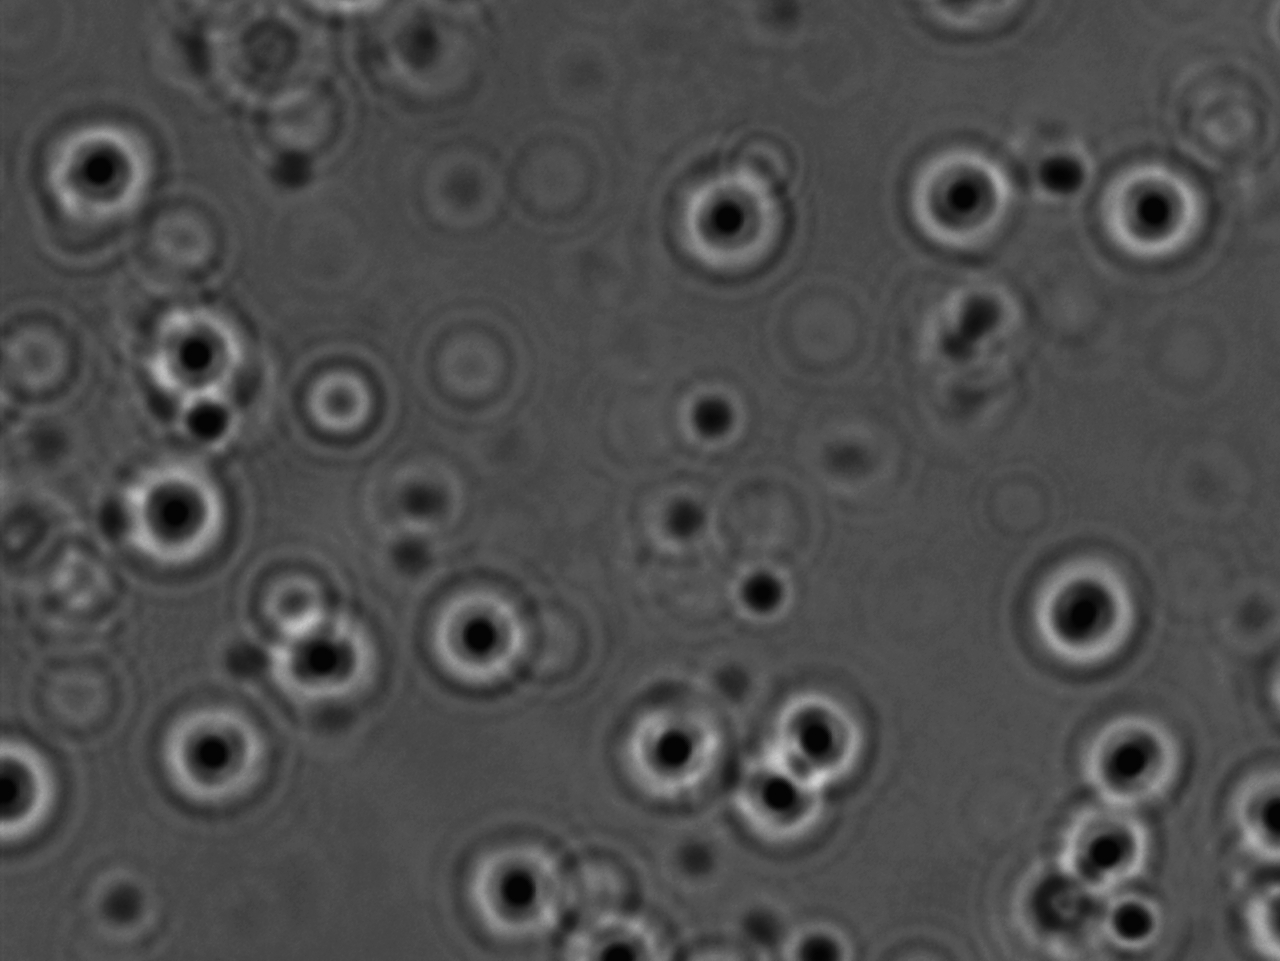depth:-24: (578, 679, 743, 819), (1001, 529, 1155, 673), (400, 566, 543, 713), (113, 300, 260, 439), (255, 591, 399, 732), (147, 679, 285, 821), (753, 657, 893, 793), (1082, 150, 1211, 292), (111, 459, 256, 583), (1055, 697, 1195, 820), (441, 837, 581, 958), (48, 116, 182, 242), (662, 158, 792, 287), (898, 145, 1032, 270), (1030, 786, 1156, 901)
